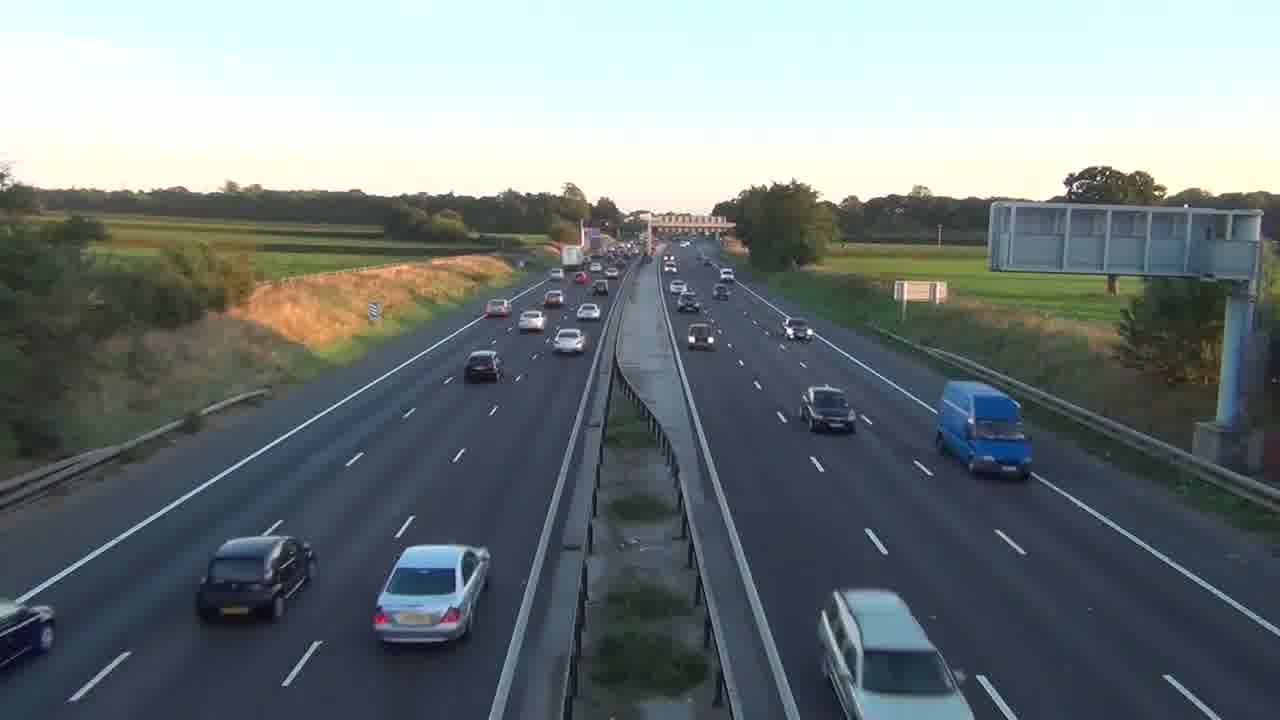car: (370, 543, 492, 648), (0, 593, 57, 672), (800, 384, 855, 433), (463, 349, 502, 384), (552, 327, 587, 356)
truck: (817, 586, 975, 718), (934, 379, 1034, 481)
